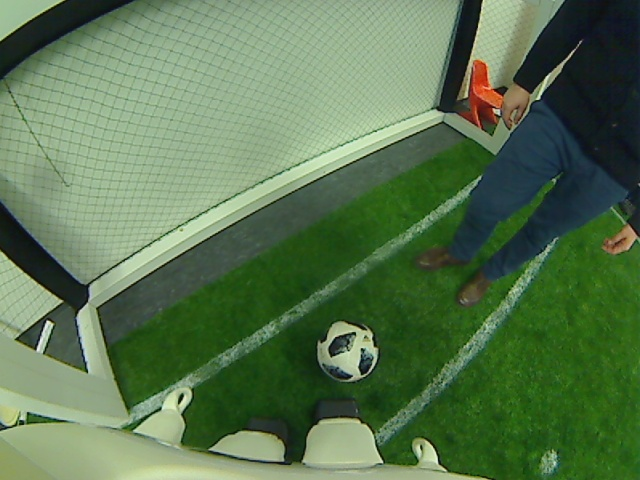ball: (315, 318, 377, 383)
